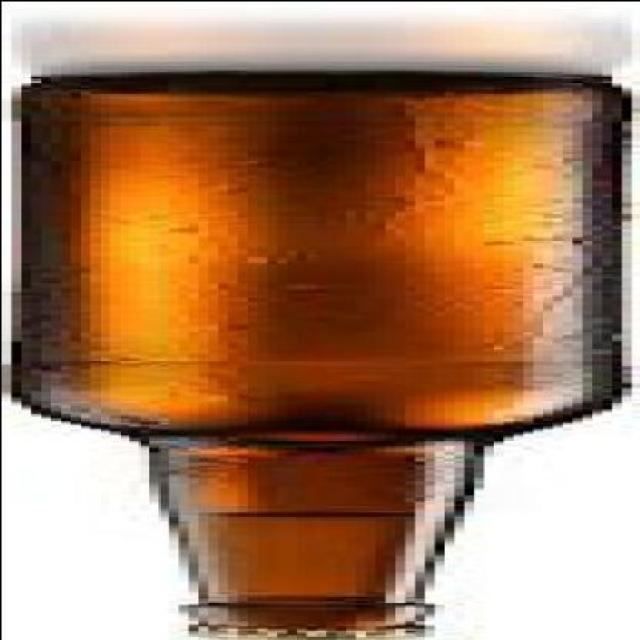GLASS: (9, 72, 638, 631)
METAL: (197, 630, 454, 638)
